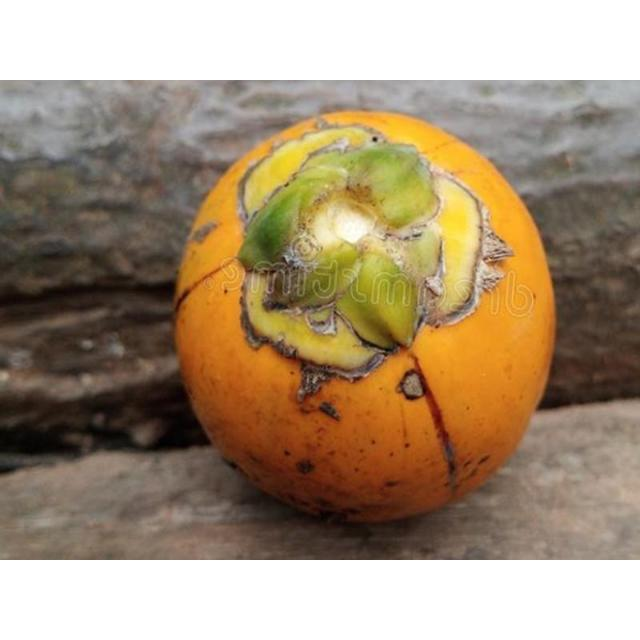good: (173, 110, 558, 526)
